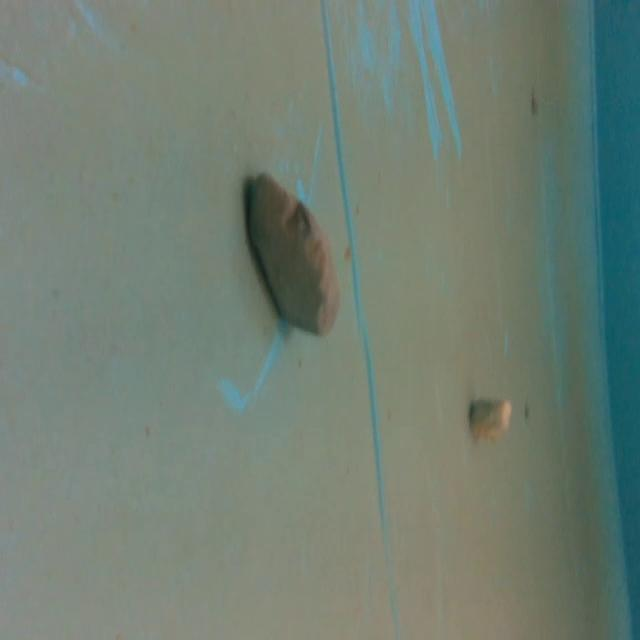rock: (243, 163, 347, 342), (462, 388, 515, 449)
